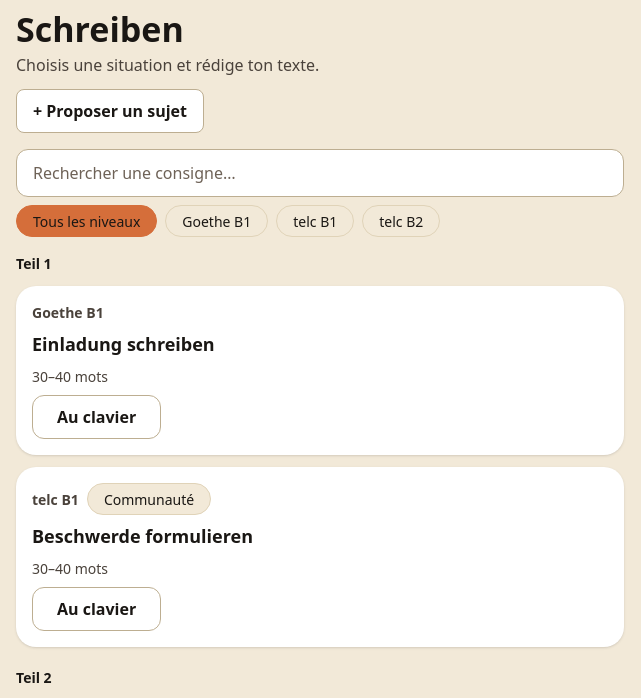
Test case: PromptListScreen — Schreiben prompt list (S6 Task 6.6) › search excluding every row renders the inline no-results copy without dropping the controls
The image size is (641, 698).
Step 1. Type "zzz-no-match" into the field with placeholder "Rechercher une consigne…" → (320, 173), box [16,149,624,197]
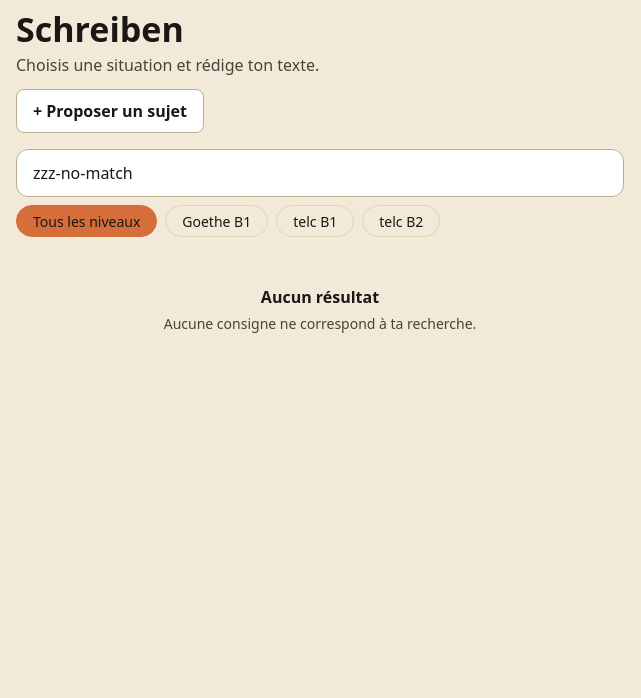
Expected: the element with test id "schreiben-prompt-list-no-results" is shown, [164,286,476,333]
